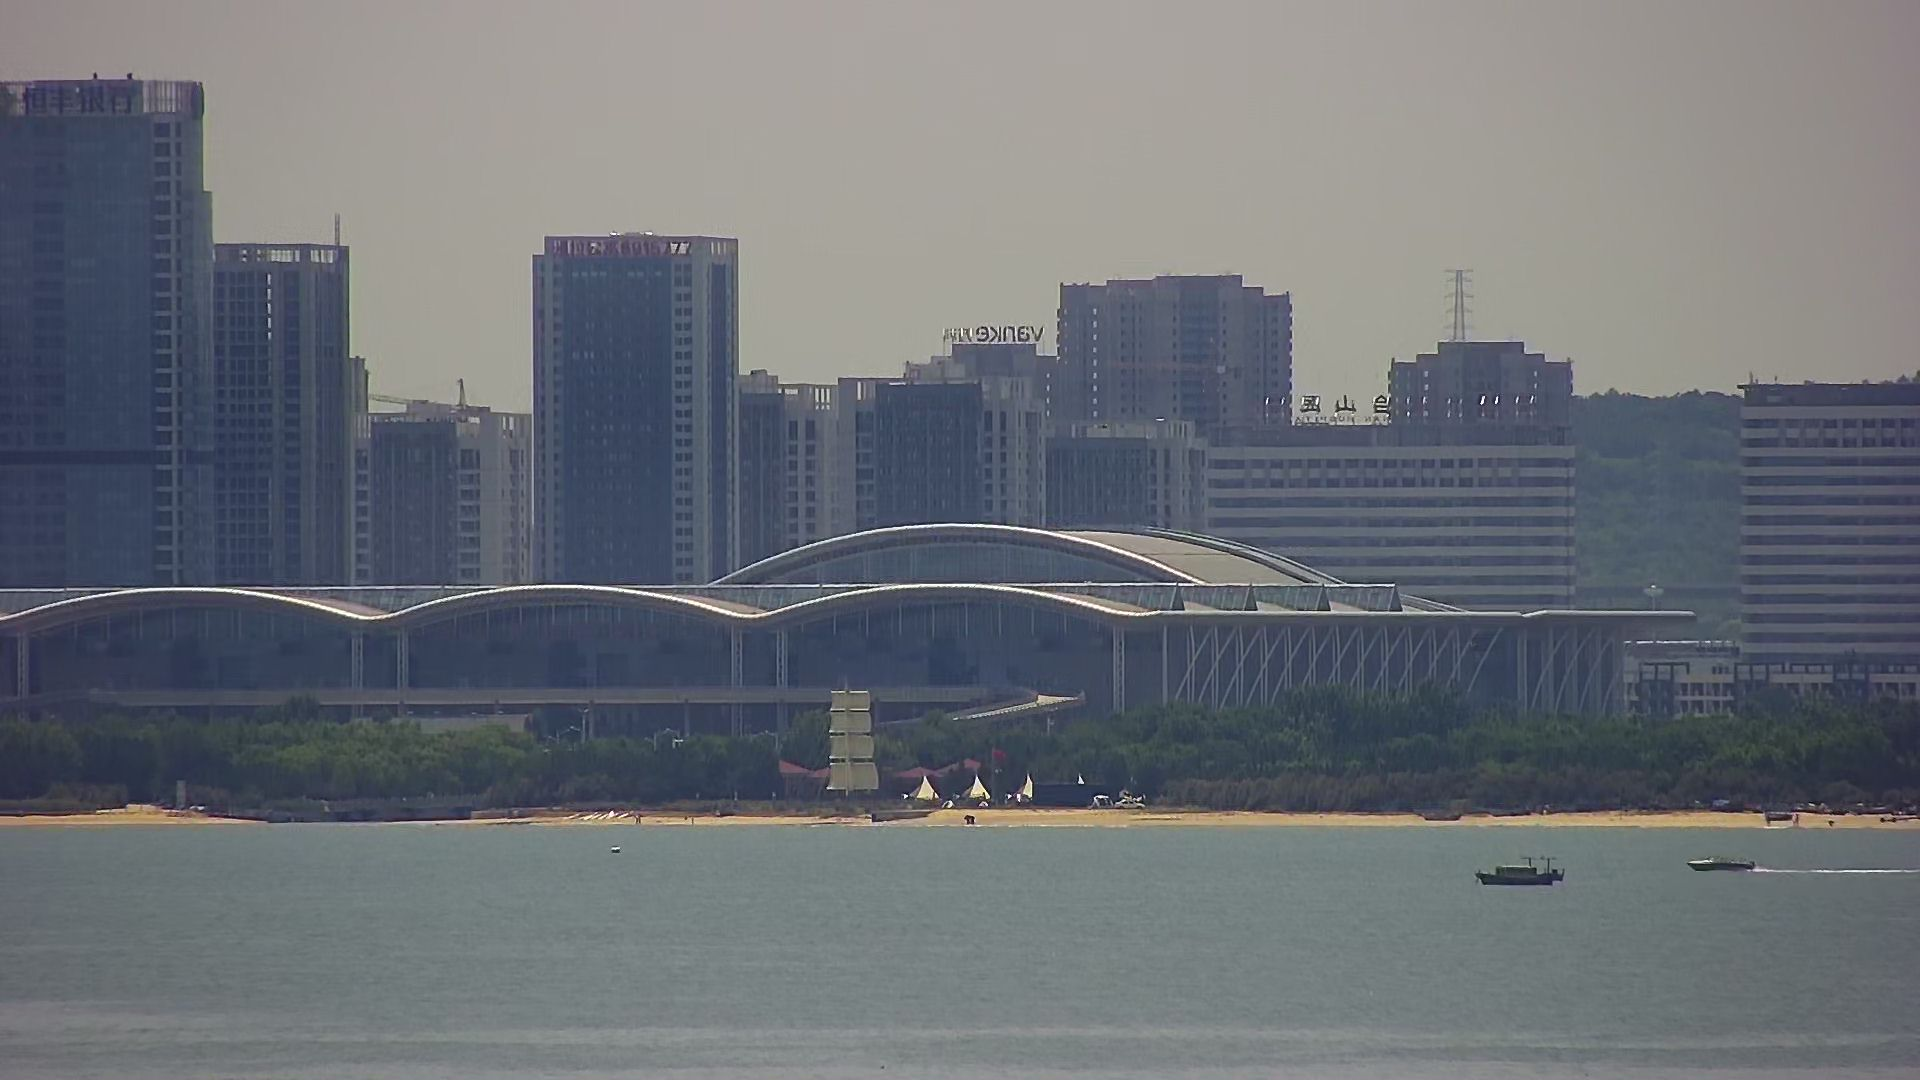boat: (1473, 853, 1567, 891), (1689, 856, 1759, 876)
